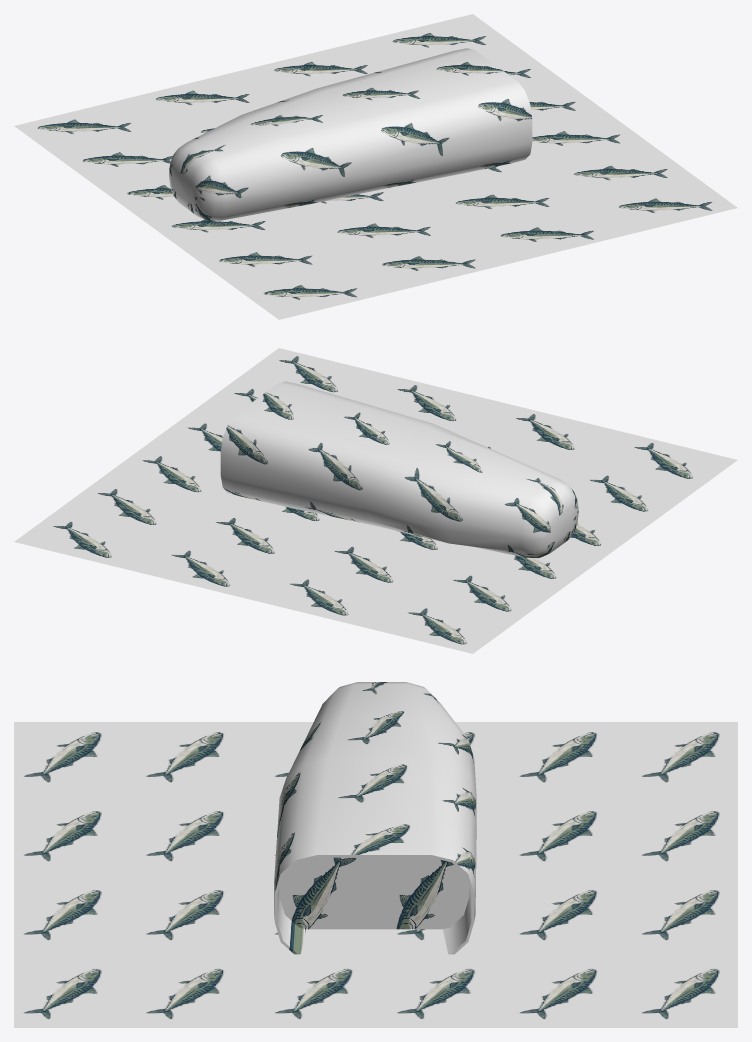
File: sarmakagıtları.fbx
3 views of the same model, one above another, from view 1: azimuth 30°, elevation 25°; view 2: azimuth 150°, elevation 25°; view 3: azimuth 270°, elevation 25° (orthographic). The views are drawn at different scales.
Parts seen in each view (by area): view 1: sarmakagıdı, sarmakagıdı_sarılmıs; view 2: sarmakagıdı, sarmakagıdı_sarılmıs; view 3: sarmakagıdı, sarmakagıdı_sarılmıs.
Boxes of the visible parts, x1,y1,x2,y2 form: sarmakagıdı: (14,14,737,319); sarmakagıdı_sarılmıs: (169,48,532,220); sarmakagıdı: (14,348,737,653); sarmakagıdı_sarılmıs: (220,381,578,558); sarmakagıdı: (14,722,737,1027); sarmakagıdı_sarılmıs: (274,682,476,954).
Bounding box in the file's own units: 81.48 × 13.64 × 81.48.
Materials: 1 (1 with a texture image).
